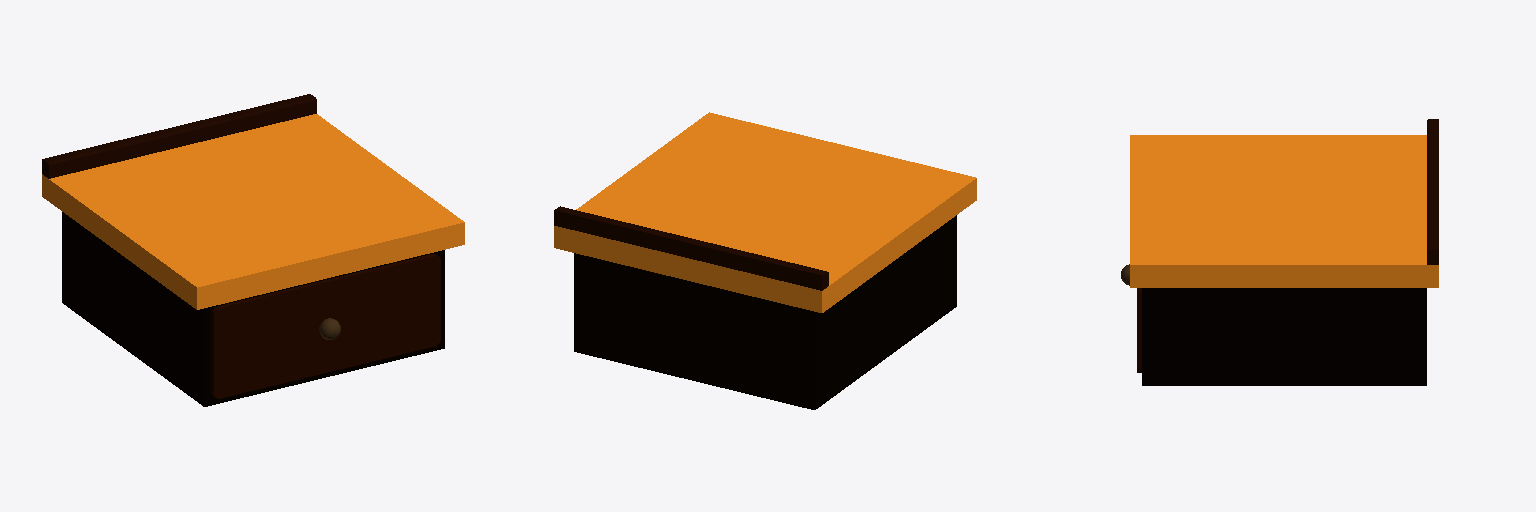
Rendered from mesa.obj.
3 renders of one model, left to right at view 1: azimuth 30°, elevation 25°; view 2: azimuth 150°, elevation 25°; view 3: azimuth 270°, elevation 25°, orthographic.
Parts seen in each view (by area): view 1: Cube_Cube.001; view 2: Cube_Cube.001; view 3: Cube_Cube.001.
Boxes of the visible parts, x1,y1,x2,y2 form: Cube_Cube.001: [42, 94, 464, 406]; Cube_Cube.001: [554, 112, 976, 409]; Cube_Cube.001: [1121, 119, 1438, 385].
Bounding box in the file's own units: 2 × 1.02 × 2.06.